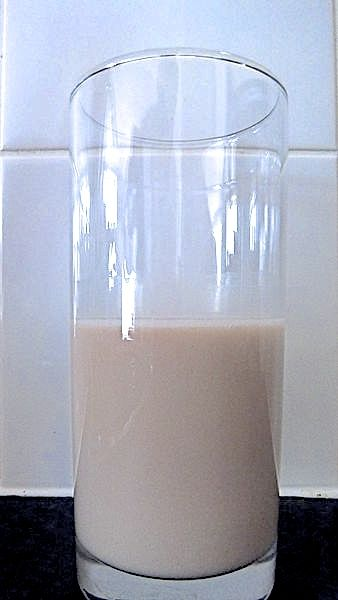glass of milk: (91, 94, 273, 593)
